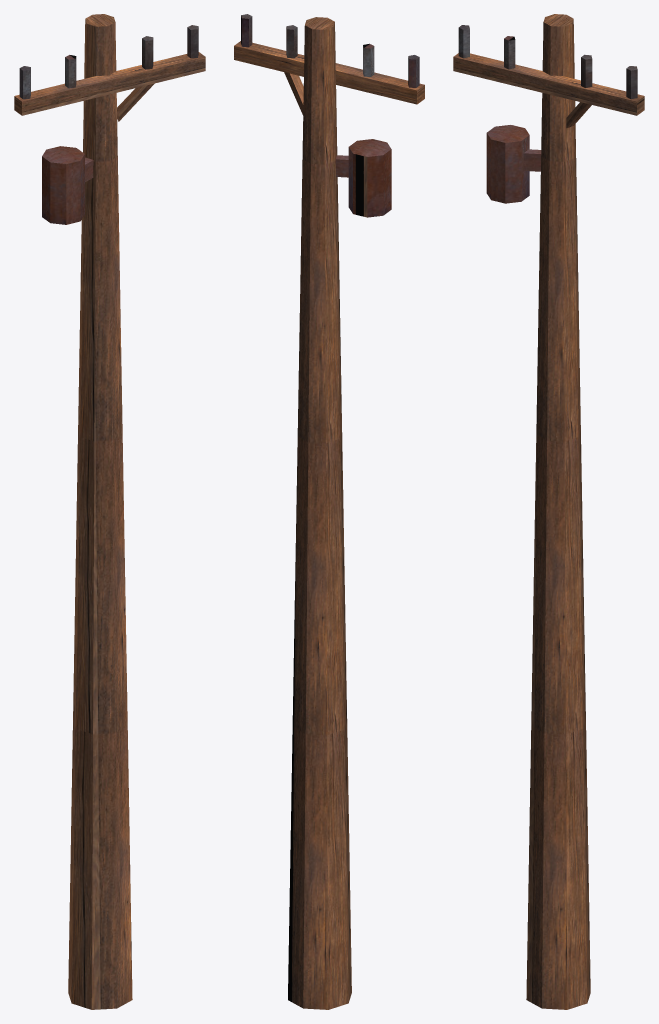
The model's file is Powerpole.fbx.
3 views of the same model, side by side, from view 1: azimuth 30°, elevation 25°; view 2: azimuth 150°, elevation 25°; view 3: azimuth 330°, elevation 25° (orthographic).
Parts seen in each view (by area): view 1: Powerpole; view 2: Powerpole; view 3: Powerpole.
Part boxes in pixels (box(x1,y1,x2,y2)): Powerpole: box(14, 14, 205, 1009); Powerpole: box(234, 14, 424, 1009); Powerpole: box(453, 14, 644, 1009).
Bounding box in the file's own units: 16.18 × 82.16 × 5.09.
1 material, 1 textured.
